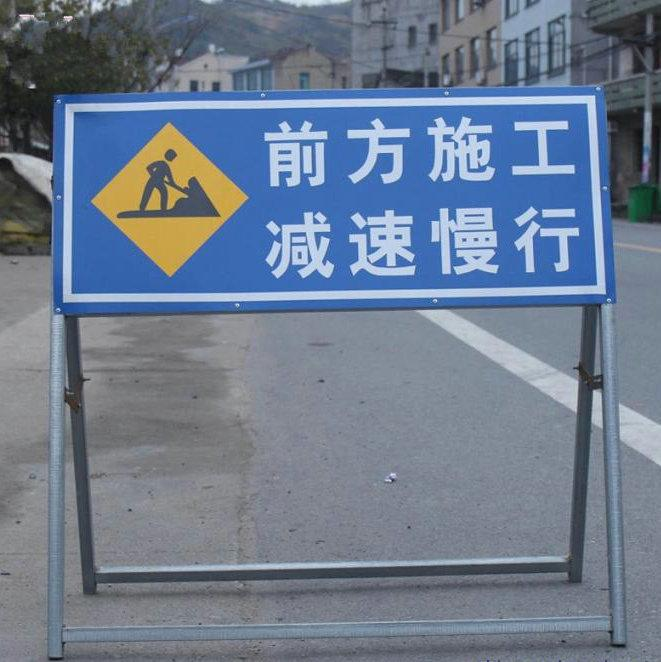sign: (52, 97, 616, 304)
